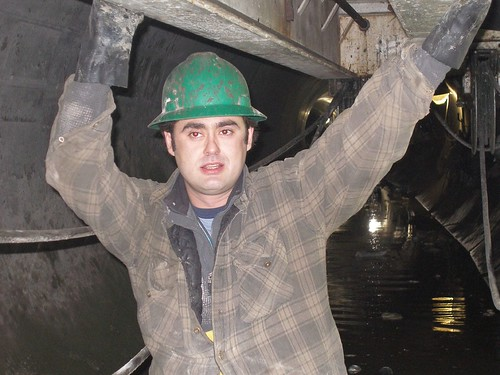person hardhat: (65, 1, 475, 371)
